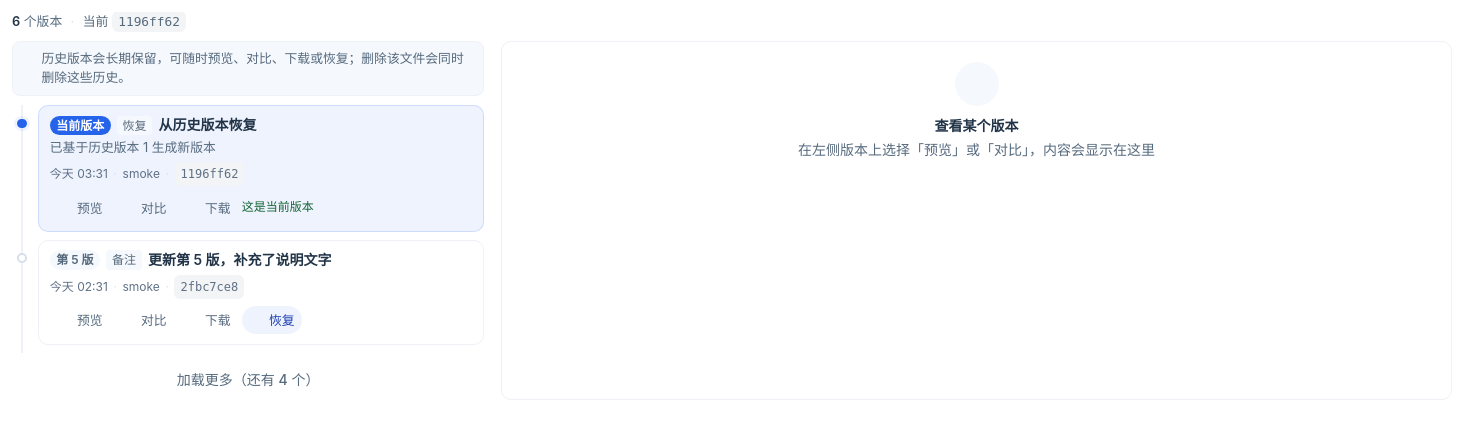
it: VersionHistory.vue › aborts a version preview load when the preview is closed
Check: the number of list items with class "history-row" is 2, box x1=12 y1=105 x2=484 y2=240; x1=12 y1=240 x2=484 y2=353
Click the button "预览" in the row of "这是当前版本".
click(80, 207)  # box x1=50 y1=193 x2=110 y2=221
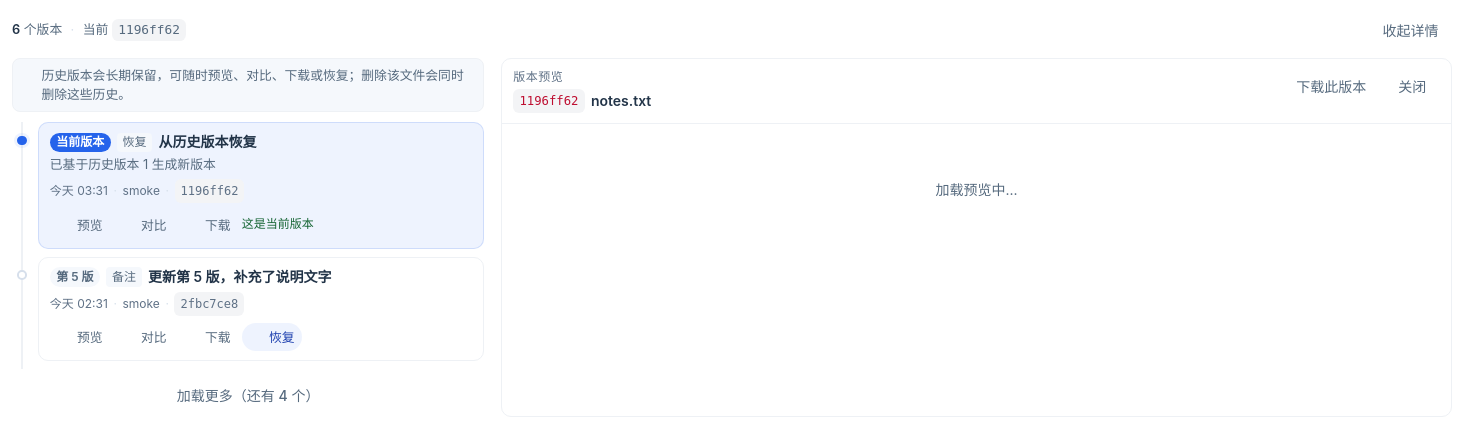
Click the button "关闭".
click(1412, 86)  # box x1=1385 y1=68 x2=1440 y2=104
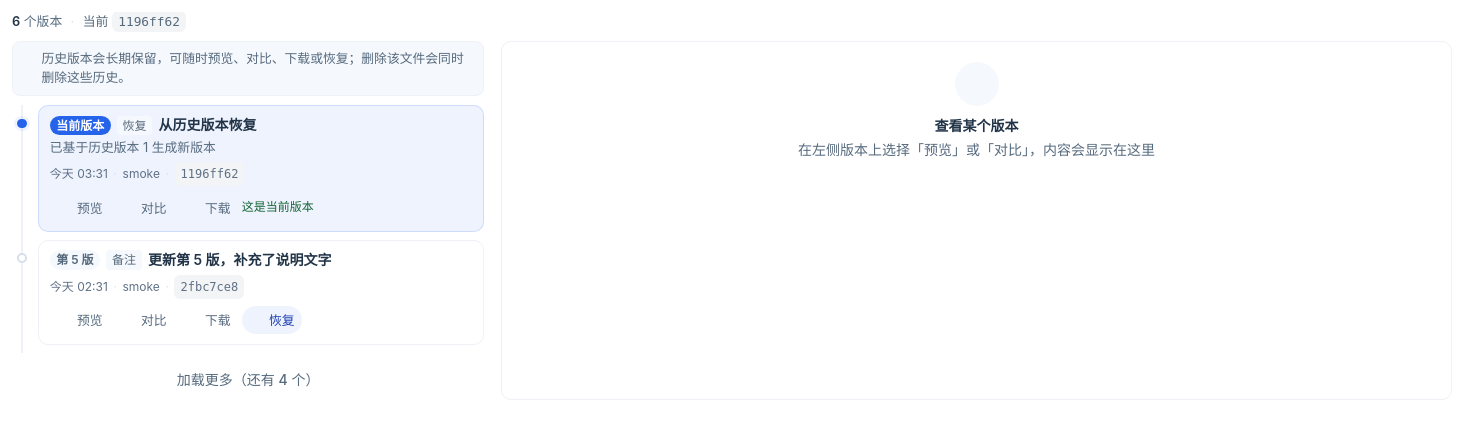
Check: the text with class "history-detail-label" is gone
